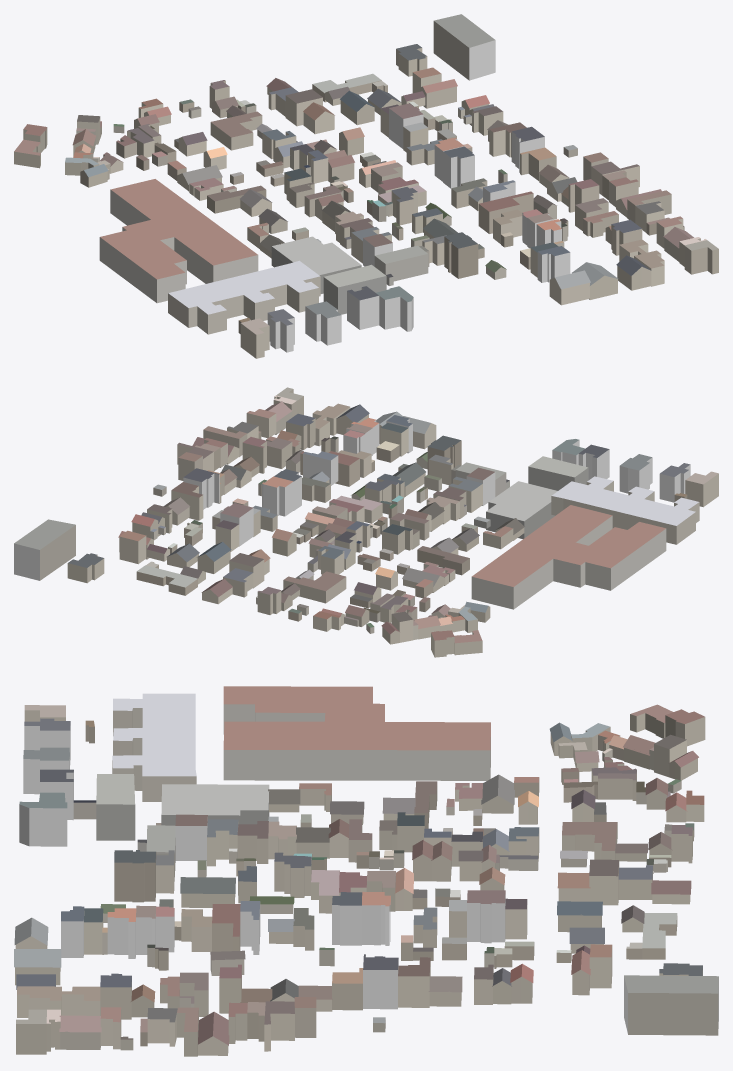
The picture shows the model from 3 angles, top to bottom: view 1: azimuth 30°, elevation 25°; view 2: azimuth 150°, elevation 25°; view 3: azimuth 270°, elevation 25°; orthographic projection. The views are drawn at different scales.
Parts seen in each view (by area): view 1: tuile; view 2: tuile; view 3: tuile.
Boxes of the visible parts, bbox=[...] form: tuile: bbox=[14, 14, 718, 358]; tuile: bbox=[14, 387, 718, 657]; tuile: bbox=[14, 686, 718, 1056].
Size of the model in its own units: 265 by 30.24 by 252.
